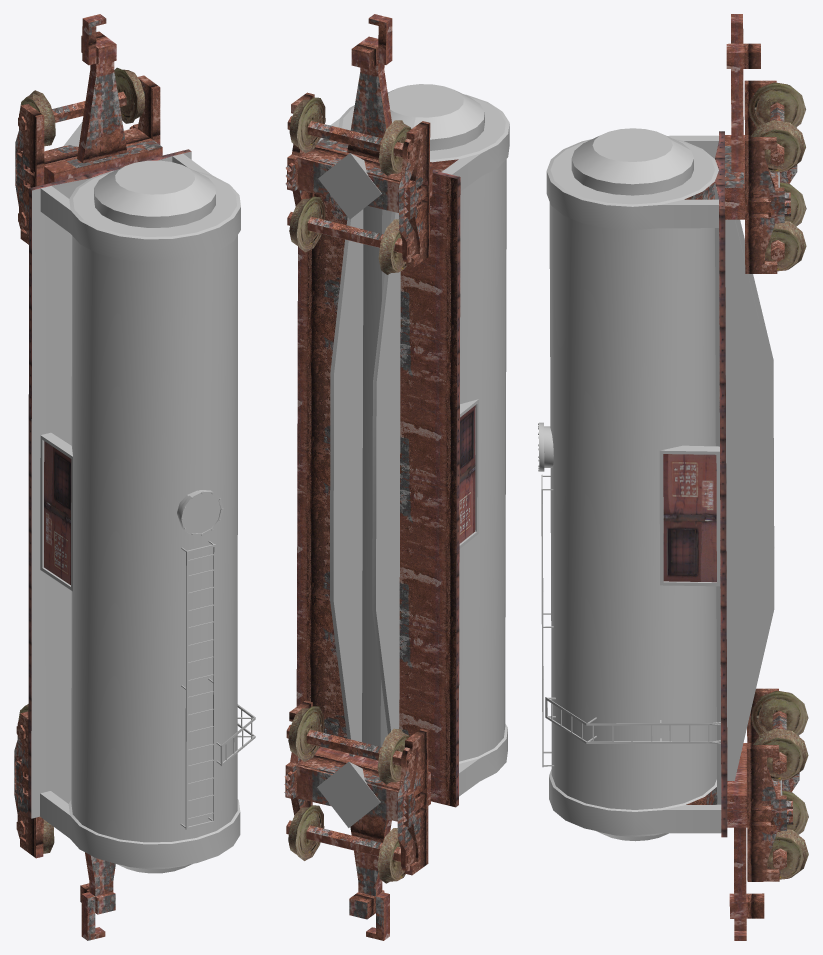
Rendered from train_liquid.fbx.
The picture shows the model from 3 angles, left to right: view 1: azimuth 30°, elevation 25°; view 2: azimuth 150°, elevation 25°; view 3: azimuth 270°, elevation 25°; orthographic projection.
Visible parts, largest first — view 1: MSH-Axis_6; view 2: MSH-Axis_6; view 3: MSH-Axis_6.
Boxes of the visible parts, x1,y1,x2,y2 form: MSH-Axis_6: (14,14,255,940); MSH-Axis_6: (284,14,509,940); MSH-Axis_6: (538,14,808,940).
Bounding box in the file's own units: 93.77 × 514 × 138.
